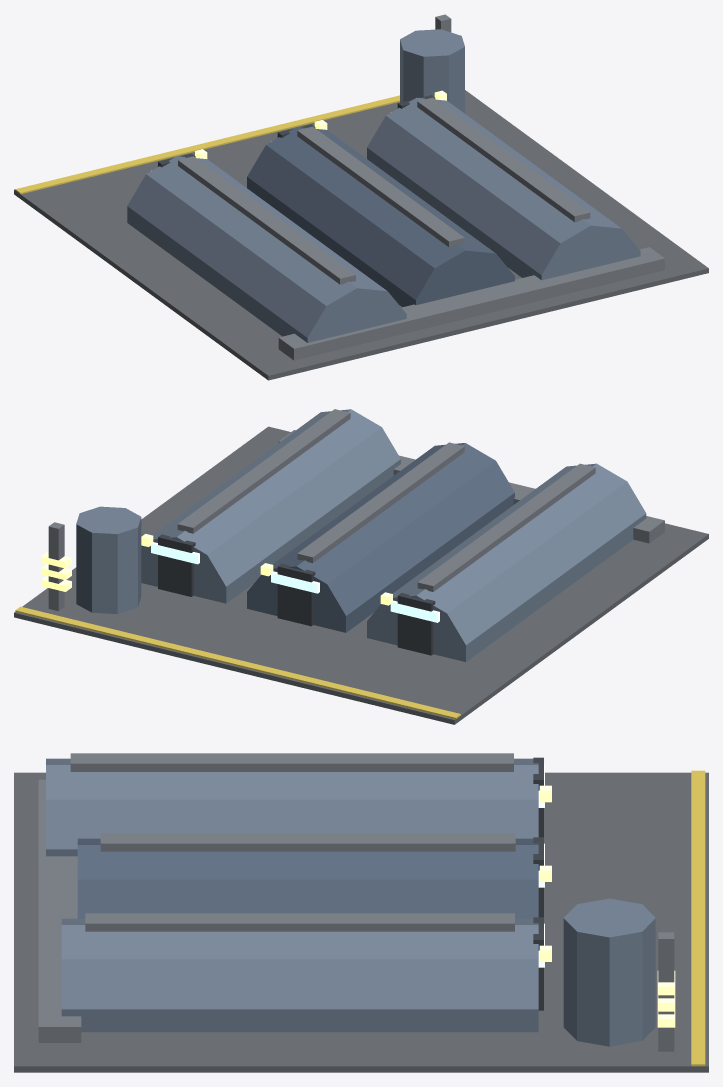
Rendered from zone_low_6_t3.glb.
The picture shows the model from 3 angles, top to bottom: view 1: azimuth 30°, elevation 25°; view 2: azimuth 150°, elevation 25°; view 3: azimuth 270°, elevation 25°; orthographic projection. The views are drawn at different scales.
Parts seen in each view (by area): view 1: zone_low_6_t3, detail; view 2: zone_low_6_t3, detail; view 3: zone_low_6_t3, detail.
Part boxes in pixels (x1,y1,x2,y2): zone_low_6_t3: (14,29,708,380); detail: (15,14,451,194); zone_low_6_t3: (14,409,708,724); detail: (15,522,460,719); zone_low_6_t3: (14,753,708,1072); detail: (539,770,705,1066).
Bounding box in the file's own units: 19.6 × 3.7 × 19.6.
